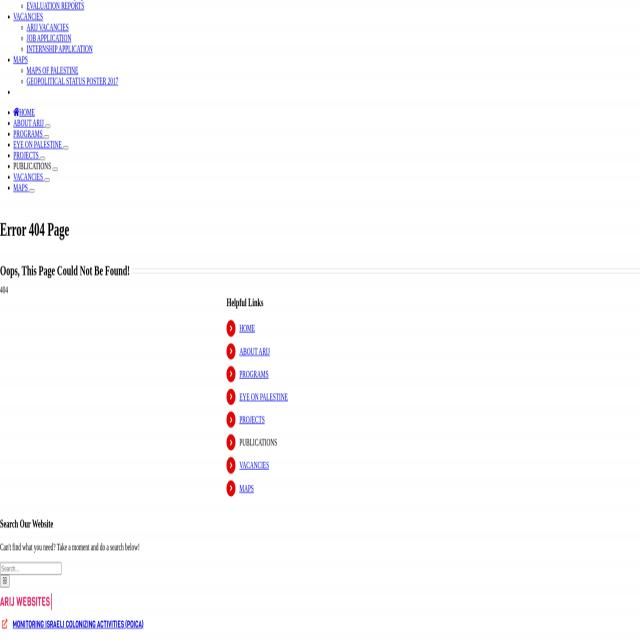field: (0, 562, 62, 575), (0, 575, 10, 587)
